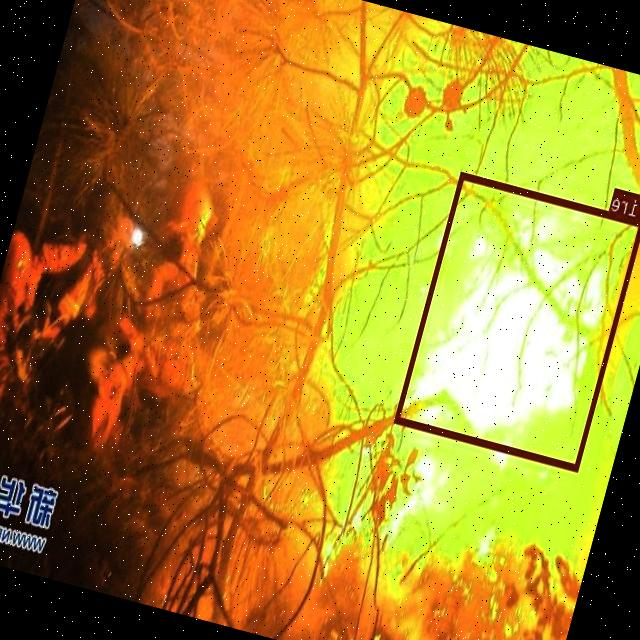fire: (394, 171, 640, 470)
